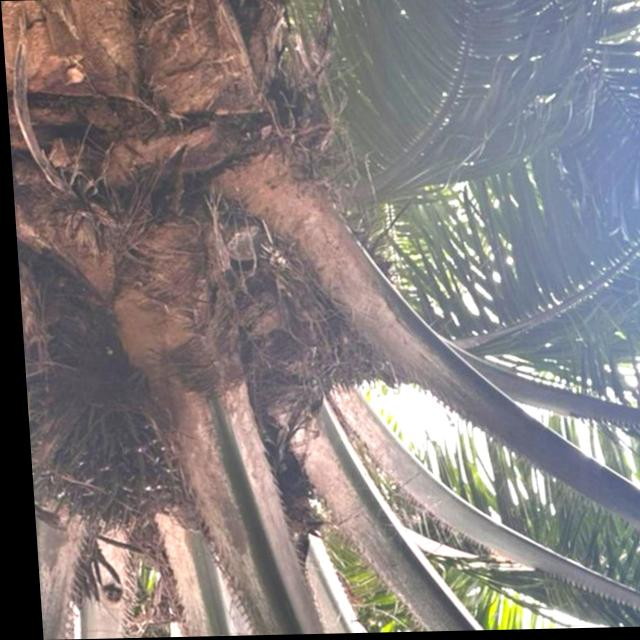unripe: (19, 359, 193, 540)
